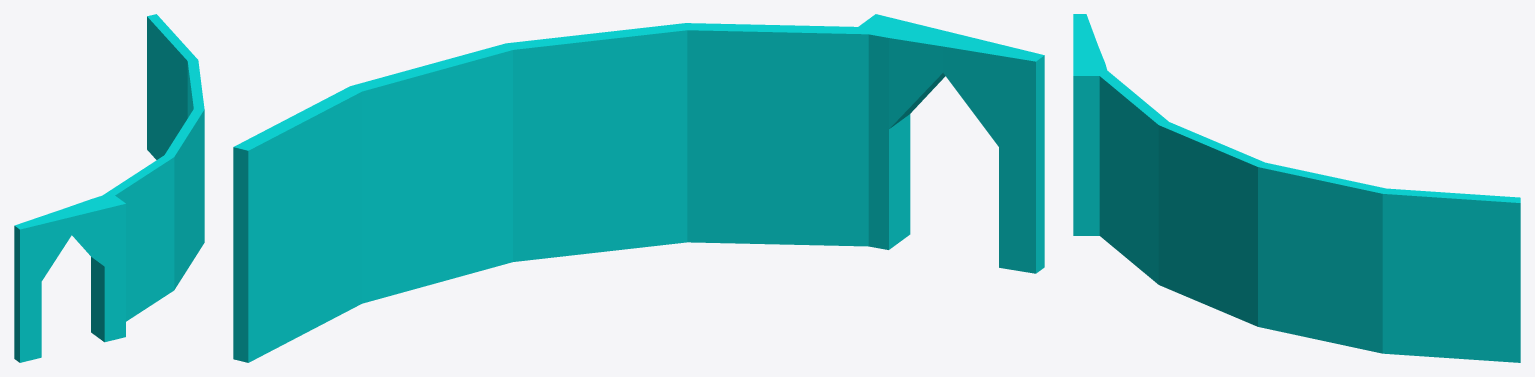
Rendered from SM_Bld_Wall_Doorway_Curved_02_Collision.fbx.
The picture shows the model from 3 angles, left to right: view 1: azimuth 30°, elevation 25°; view 2: azimuth 150°, elevation 25°; view 3: azimuth 270°, elevation 25°; orthographic projection. The views are drawn at different scales.
Parts seen in each view (by area): view 1: SM_Bld_Wall_Doorway_Curved_02_Collision; view 2: SM_Bld_Wall_Doorway_Curved_02_Collision; view 3: SM_Bld_Wall_Doorway_Curved_02_Collision.
Part boxes in pixels (box(x1,y1,x2,y2)): SM_Bld_Wall_Doorway_Curved_02_Collision: box(14, 14, 204, 362); SM_Bld_Wall_Doorway_Curved_02_Collision: box(233, 14, 1044, 362); SM_Bld_Wall_Doorway_Curved_02_Collision: box(1073, 14, 1520, 362).
Bounding box in the file's own units: 761 × 300 × 761.
